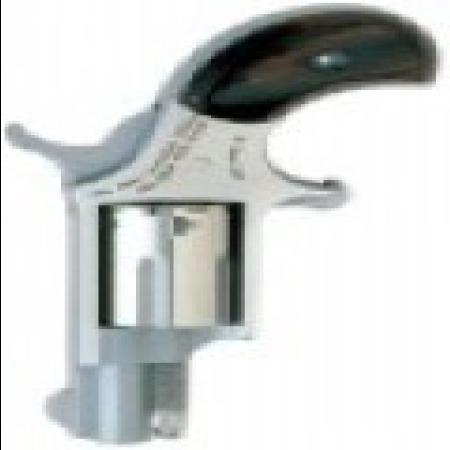Pistol: (3, 6, 428, 438)
